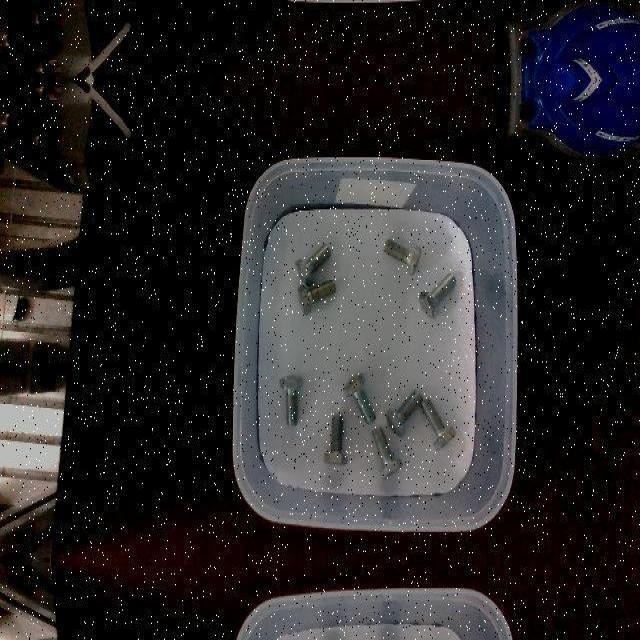screw: (420, 395, 457, 449), (343, 371, 376, 425), (418, 271, 456, 317), (386, 390, 423, 436), (371, 426, 403, 478), (294, 242, 331, 286), (297, 279, 335, 317), (384, 238, 421, 276), (323, 413, 348, 463), (279, 374, 303, 426)
